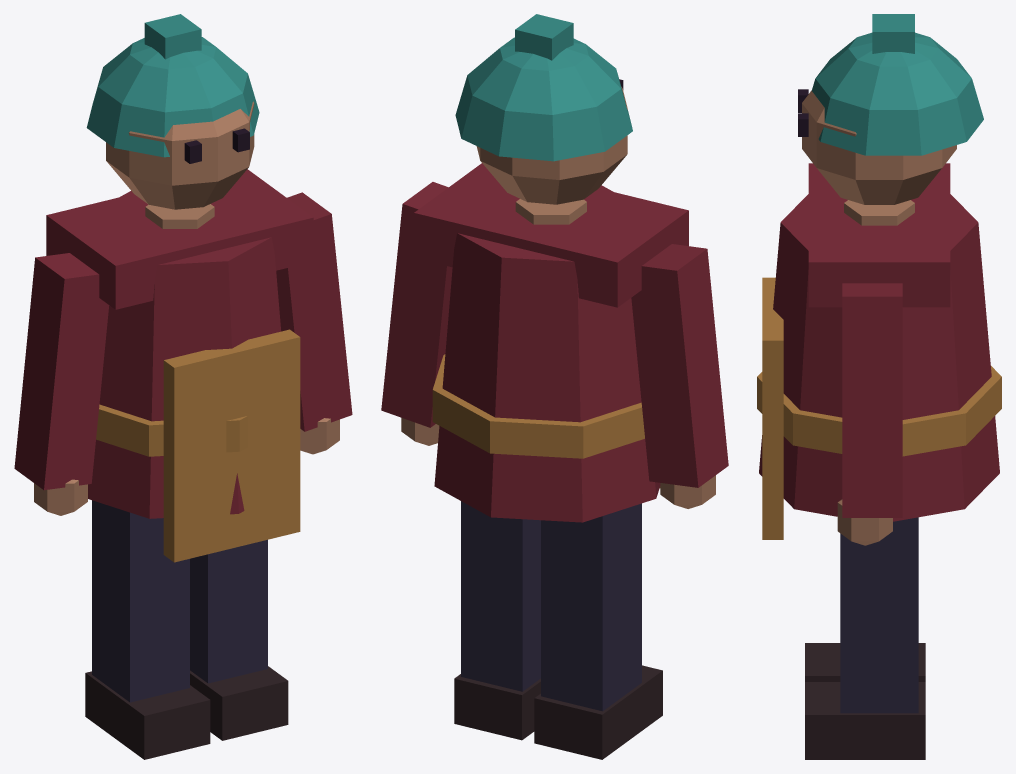
The model's file is person_hessa.gltf.
3 views of the same model, side by side, from view 1: azimuth 30°, elevation 25°; view 2: azimuth 150°, elevation 25°; view 3: azimuth 270°, elevation 25° (orthographic). The views are drawn at different scales.
Visible parts, largest first — view 1: body, face; view 2: body, face; view 3: body, face.
Part boxes in pixels (box(x1,y1,x2,y2)): body: box(14, 169, 352, 759); face: box(86, 14, 259, 209); body: box(381, 163, 728, 759); face: box(455, 14, 632, 204); body: box(757, 163, 1001, 759); face: box(798, 14, 983, 204).
Size of the model in its own units: 1.03 by 2.18 by 0.69.
